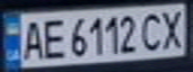1: (84, 14, 106, 56), (103, 12, 121, 55)
2: (118, 11, 142, 54)
6: (66, 15, 90, 58)
A: (18, 17, 48, 62)
C: (139, 9, 166, 52)
E: (39, 16, 69, 61)
X: (157, 7, 190, 51)
